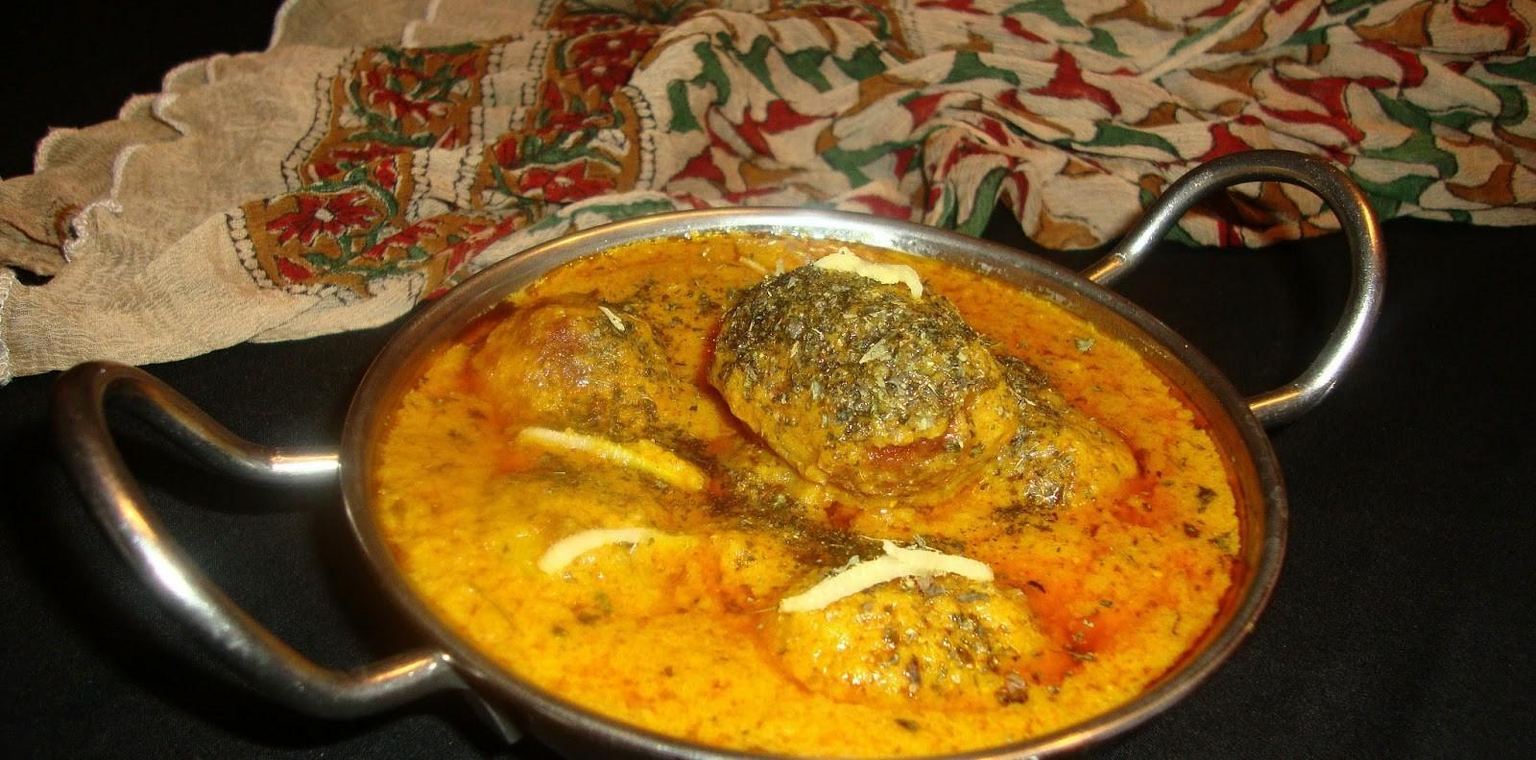DumAloo: (361, 226, 1268, 760)
